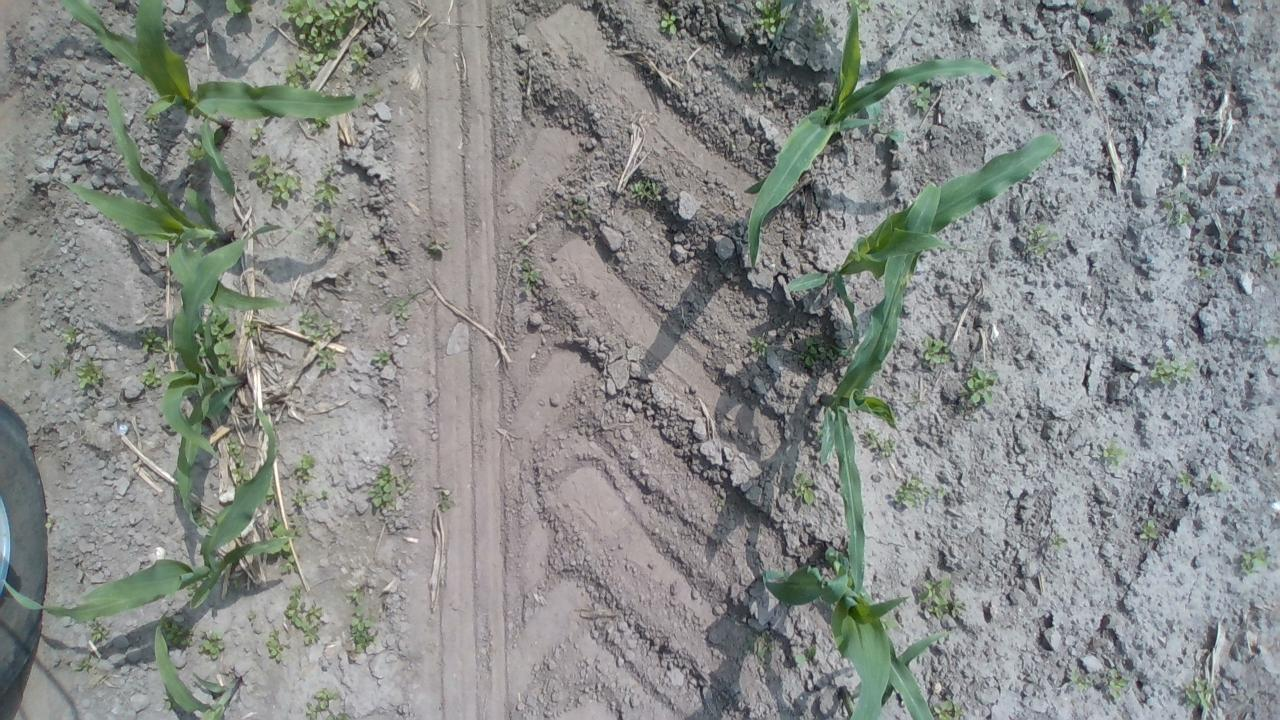Maize: (746, 0, 1014, 273), (2, 405, 290, 624), (58, 0, 367, 199), (784, 132, 1060, 351), (818, 184, 941, 608), (58, 86, 288, 312), (160, 222, 304, 534), (760, 561, 934, 720), (840, 630, 954, 720), (152, 623, 240, 720)
Weeds: (280, 0, 376, 47), (193, 308, 238, 372), (249, 153, 302, 201), (285, 41, 337, 89), (284, 584, 323, 645), (919, 578, 966, 618), (866, 100, 905, 143), (960, 366, 999, 406), (348, 607, 381, 652), (268, 510, 302, 552), (1149, 357, 1197, 385), (298, 308, 337, 342), (368, 466, 397, 511), (226, 435, 252, 485), (752, 0, 791, 33), (798, 336, 839, 366), (892, 476, 929, 509), (136, 326, 176, 356), (742, 630, 776, 662), (863, 426, 897, 458), (1184, 678, 1216, 712), (824, 546, 851, 586), (1026, 224, 1058, 257), (159, 618, 194, 648), (1140, 2, 1172, 34), (1161, 192, 1193, 224), (76, 359, 104, 389), (923, 336, 952, 364), (198, 630, 225, 660), (906, 80, 931, 112), (184, 136, 210, 166), (1098, 439, 1126, 466), (1240, 548, 1269, 574), (794, 472, 816, 506), (932, 698, 964, 720), (1108, 668, 1130, 700), (313, 180, 340, 205), (314, 214, 338, 242), (520, 261, 540, 291), (630, 180, 660, 200), (811, 12, 834, 38), (295, 453, 316, 481), (265, 629, 283, 661), (1069, 668, 1093, 692), (386, 297, 412, 319), (141, 362, 162, 389), (315, 688, 340, 710), (348, 42, 370, 66), (316, 347, 338, 370), (566, 196, 588, 219), (748, 333, 769, 357), (659, 10, 679, 35), (1140, 517, 1160, 540), (225, 0, 252, 17), (794, 645, 818, 663), (190, 503, 208, 527), (90, 618, 108, 642), (1206, 473, 1228, 492), (309, 116, 331, 134), (372, 348, 391, 367), (242, 318, 260, 338), (162, 690, 180, 710), (60, 324, 76, 346), (1176, 470, 1194, 489), (292, 489, 310, 507), (48, 357, 67, 374), (280, 554, 296, 574), (1086, 40, 1106, 56), (849, 0, 873, 13), (1048, 532, 1067, 548), (51, 100, 66, 120), (878, 616, 898, 631), (346, 586, 363, 603), (839, 344, 857, 360), (227, 571, 244, 587), (1264, 333, 1280, 349), (305, 702, 319, 720), (73, 659, 92, 672), (428, 242, 452, 252), (1196, 266, 1214, 279), (364, 85, 383, 97), (440, 492, 452, 511), (250, 125, 264, 141), (1268, 250, 1280, 268), (907, 392, 920, 408), (185, 580, 197, 596), (1178, 152, 1194, 164), (144, 115, 160, 125), (264, 486, 275, 500), (326, 713, 348, 720), (752, 80, 764, 92), (892, 10, 904, 21), (400, 481, 410, 494), (322, 167, 336, 176), (44, 516, 54, 528), (1208, 142, 1220, 152), (317, 489, 327, 500), (936, 486, 946, 496), (248, 612, 256, 622), (518, 78, 528, 86), (816, 428, 824, 437), (1077, 0, 1087, 7), (715, 499, 724, 506), (380, 248, 389, 254)
